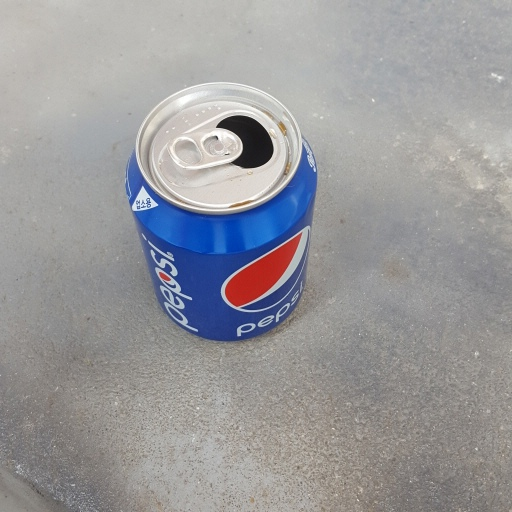Metal_0: (125, 79, 319, 341)
